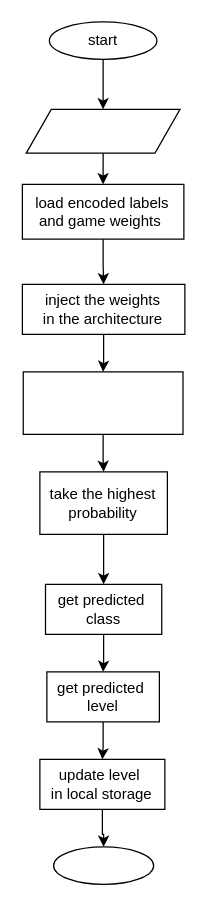
The diagram is 206 pixels wide and 906 high, and some of its shapes have lost their labels. Each missing label, with the box of its shape:
end: (52, 846, 154, 884)
enter features and game: (25, 108, 180, 153)
generating predicted probabilities on the features: (22, 371, 183, 434)
